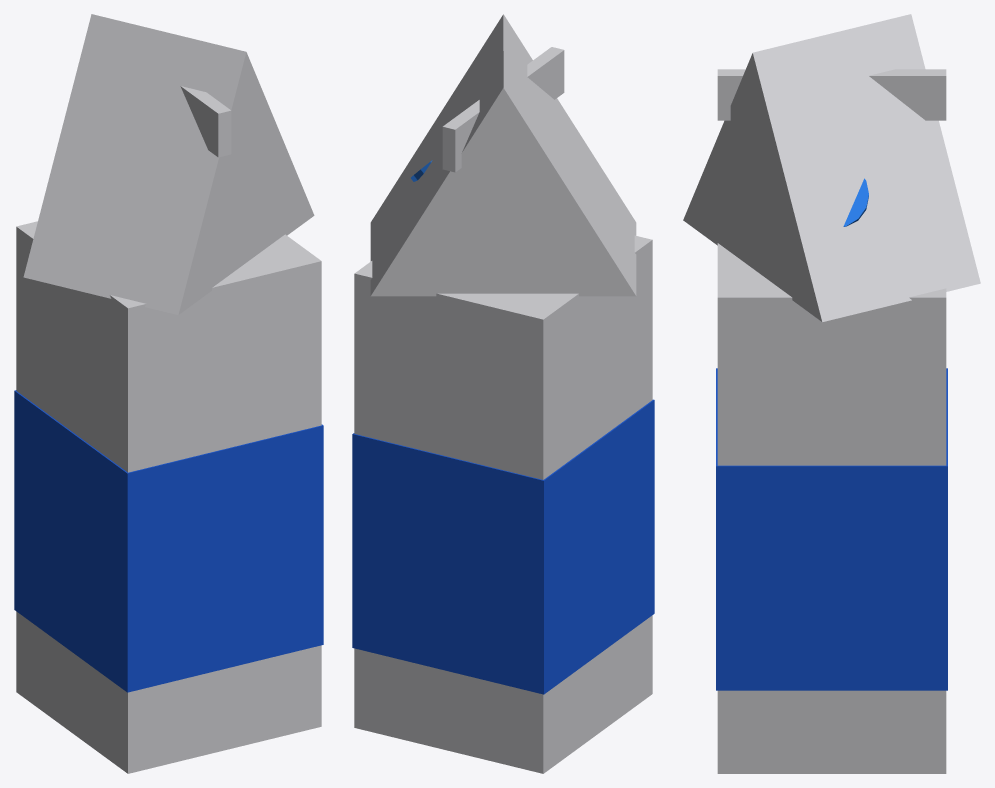
The model's file is Grocery_Milk_Carton.obj.
3 renders of one model, left to right at view 1: azimuth 30°, elevation 25°; view 2: azimuth 150°, elevation 25°; view 3: azimuth 270°, elevation 25°, orthographic. The views are drawn at different scales.
Parts seen in each view (by area): view 1: Carton_Body, Carton_Brand_Stripe, Carton_Gable_Roof, Carton_Top_Fin; view 2: Carton_Body, Carton_Brand_Stripe, Carton_Gable_Roof, Carton_Top_Fin; view 3: Carton_Body, Carton_Gable_Roof, Carton_Brand_Stripe, Carton_Top_Fin, Carton_Screw_Cap.
Part boxes in pixels (bbox=[...]): Carton_Body: bbox=[16, 221, 321, 773]; Carton_Brand_Stripe: bbox=[14, 390, 323, 692]; Carton_Gable_Roof: bbox=[23, 14, 314, 315]; Carton_Top_Fin: bbox=[180, 86, 231, 157]; Carton_Body: bbox=[354, 235, 652, 773]; Carton_Brand_Stripe: bbox=[352, 399, 654, 694]; Carton_Gable_Roof: bbox=[370, 14, 636, 296]; Carton_Top_Fin: bbox=[442, 47, 564, 172]; Carton_Body: bbox=[717, 243, 946, 773]; Carton_Gable_Roof: bbox=[683, 14, 980, 321]; Carton_Brand_Stripe: bbox=[716, 368, 947, 690]; Carton_Top_Fin: bbox=[717, 69, 946, 120]; Carton_Screw_Cap: bbox=[843, 178, 868, 226].
Bounding box in the file's own units: 0.1076 × 0.247 × 0.0963.
